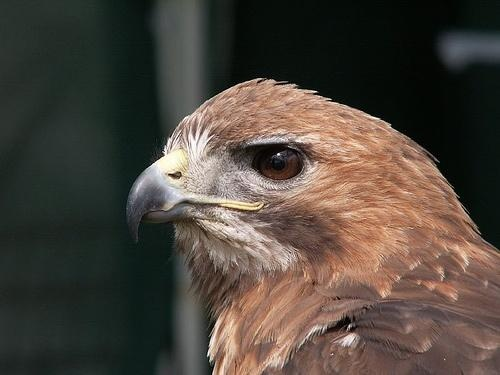bird: (125, 77, 500, 375)
